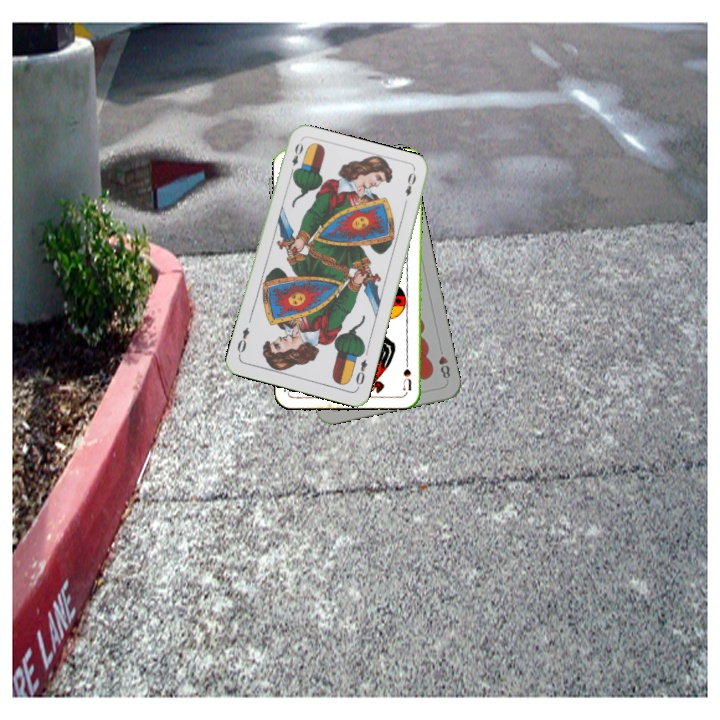EO: (286, 138, 306, 178), (352, 355, 370, 391)
H8: (435, 343, 453, 381)
SU: (399, 352, 414, 392)
